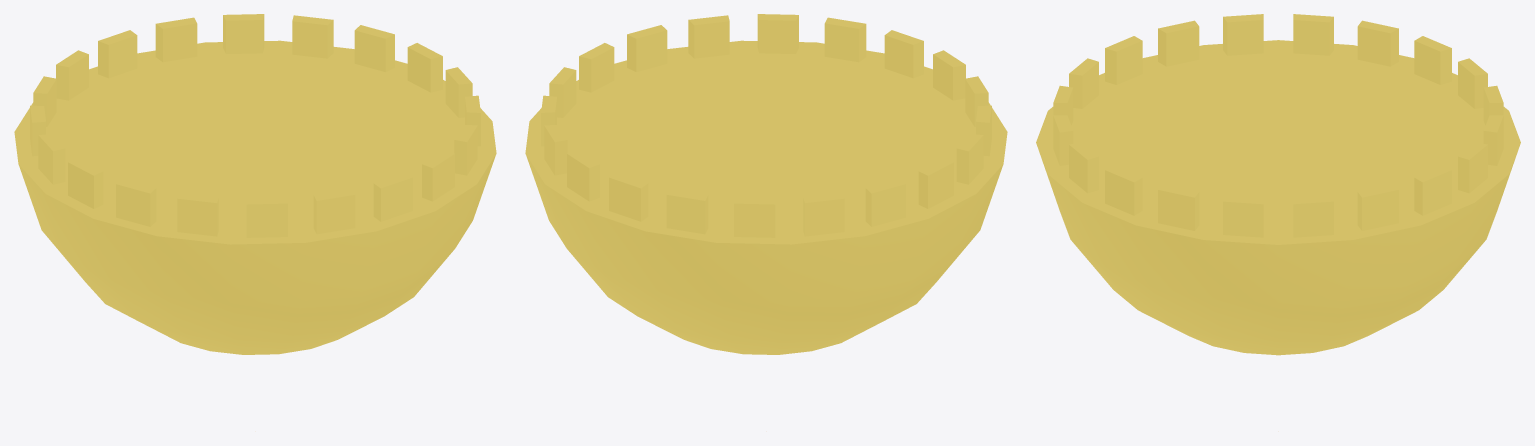
File: flowerMaterial.glb
3 views of the same model, side by side, from view 1: azimuth 30°, elevation 25°; view 2: azimuth 150°, elevation 25°; view 3: azimuth 270°, elevation 25° (orthographic).
Parts seen in each view (by area): view 1: pasted__pasted__pSphere2; view 2: pasted__pasted__pSphere2; view 3: pasted__pasted__pSphere2.
Part boxes in pixels (x1,y1,x2,y2): pasted__pasted__pSphere2: [14, 14, 496, 354]; pasted__pasted__pSphere2: [525, 14, 1007, 354]; pasted__pasted__pSphere2: [1036, 14, 1520, 355].
Size of the model in its own units: 3538 by 2598 by 3538.
